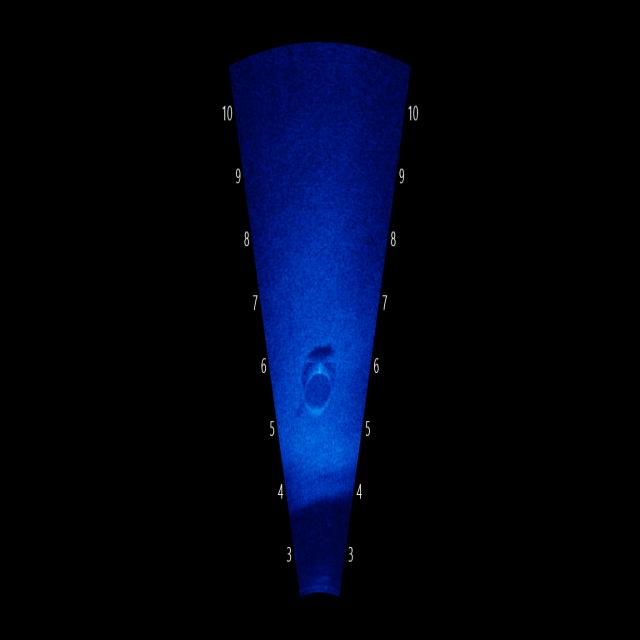circle: (297, 356, 343, 426)
